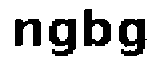b: (80, 6, 112, 49)
g: (44, 16, 79, 59), (116, 16, 149, 60)
n: (12, 14, 43, 53)
